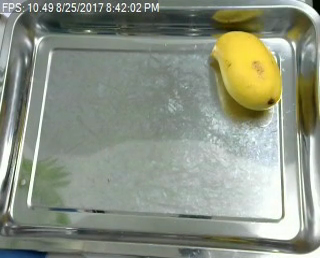Mango: (212, 28, 281, 115)
